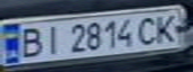1: (100, 18, 121, 50)
2: (66, 20, 87, 54)
4: (115, 16, 139, 47)
8: (84, 19, 106, 52)
B: (12, 25, 48, 60)
C: (136, 13, 163, 46)
I: (39, 22, 66, 56)
K: (151, 11, 184, 44)
